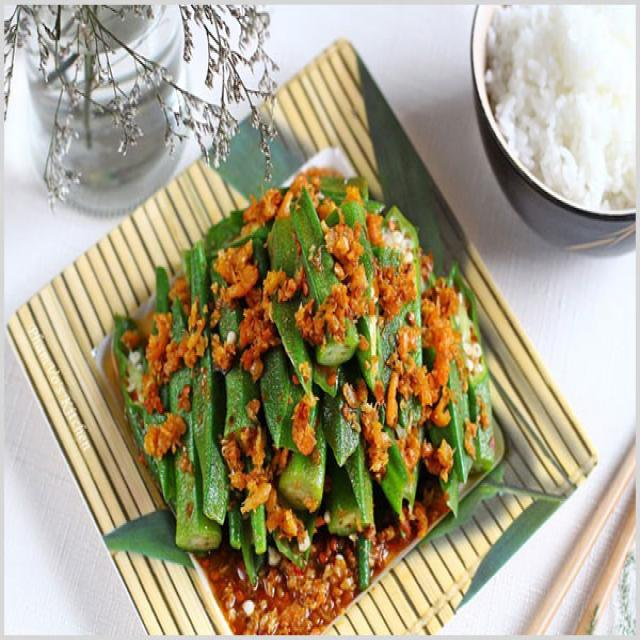com: (485, 5, 634, 208)
dau bap: (115, 170, 502, 632)
